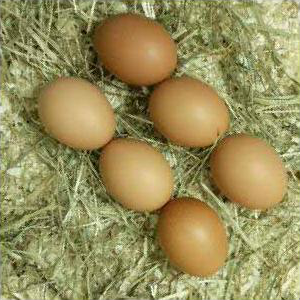egg: (91, 13, 178, 86), (209, 133, 287, 209), (37, 76, 116, 151), (148, 76, 230, 148), (156, 197, 228, 278), (99, 138, 175, 213)
